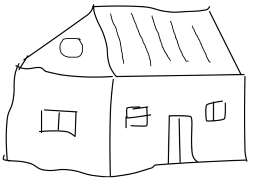big_house: (1, 1, 260, 182)
closed_window: (33, 103, 82, 141), (123, 104, 155, 136), (202, 96, 229, 125)
door: (164, 110, 201, 168)
roof: (14, 3, 250, 83)
wall: (106, 69, 249, 179)
